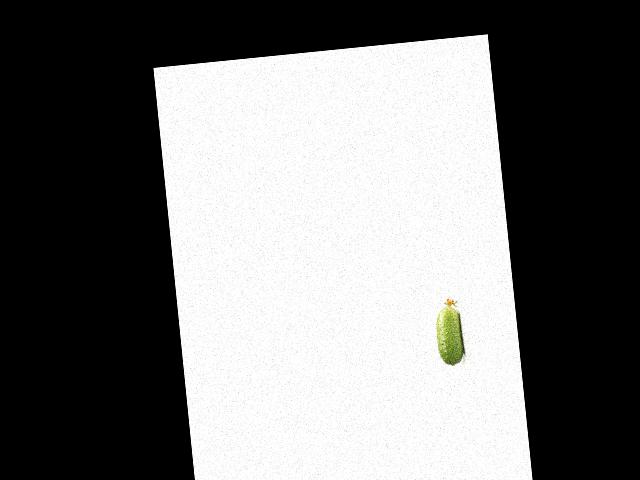cucumber: (433, 298, 466, 367)
